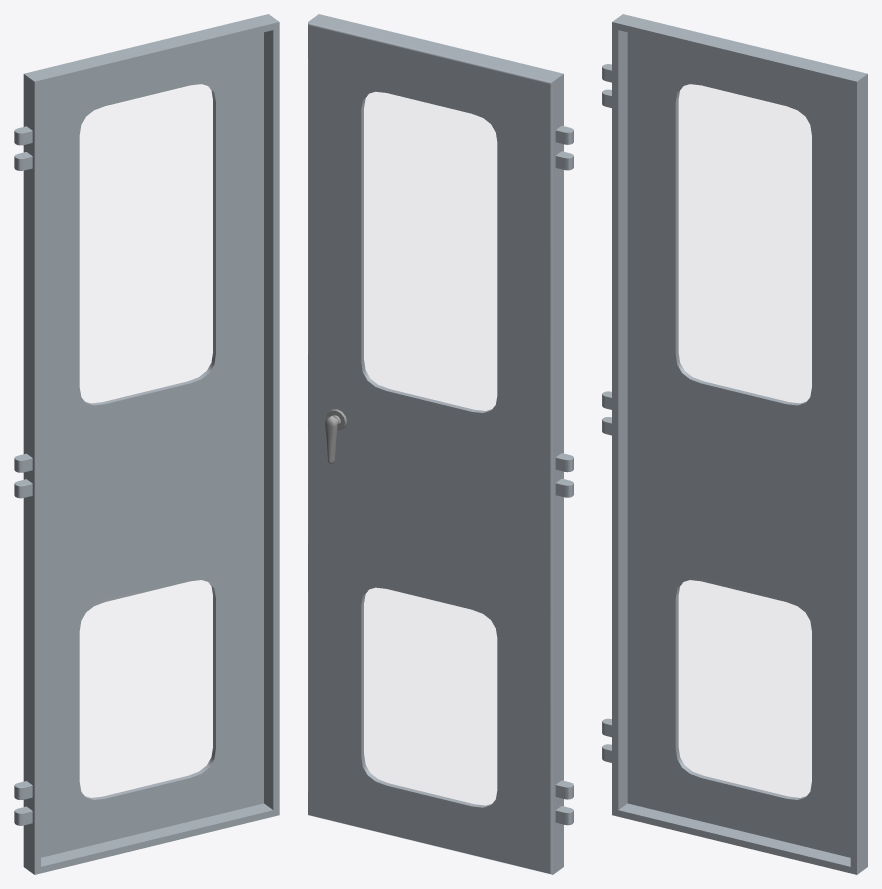
Rendered from ACB_BACK_DOOR.fbx.
The picture shows the model from 3 angles, left to right: view 1: azimuth 30°, elevation 25°; view 2: azimuth 150°, elevation 25°; view 3: azimuth 330°, elevation 25°; orthographic projection.
Parts seen in each view (by area): view 1: ACB_BACK_DOOR; view 2: ACB_BACK_DOOR; view 3: ACB_BACK_DOOR.
Part boxes in pixels (x1,y1,x2,y2): ACB_BACK_DOOR: (14, 14, 279, 874); ACB_BACK_DOOR: (308, 14, 573, 874); ACB_BACK_DOOR: (602, 14, 867, 874).
Bounding box in the file's own units: 0.6334 × 1.85 × 0.0875.
3 materials, 2 textured.
